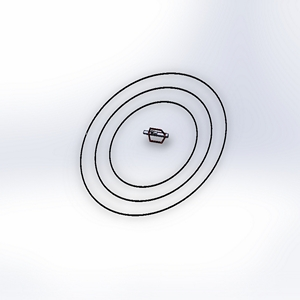circle: (74, 70, 232, 222)
submarine: (141, 121, 174, 150)
